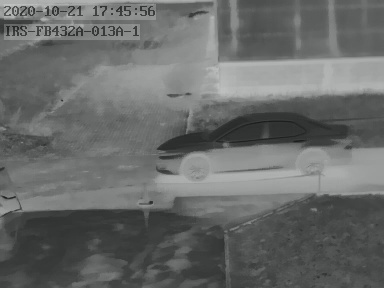vehicle: (154, 116, 351, 180)
